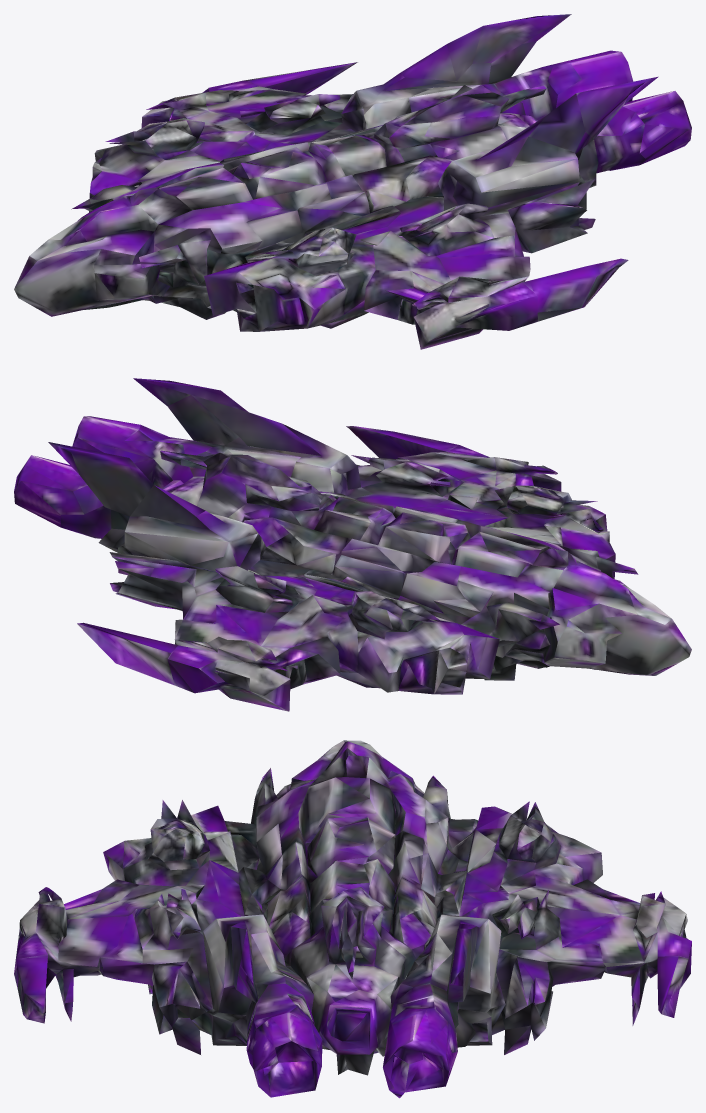
Rendered from paladin_lod.glb.
The picture shows the model from 3 angles, top to bottom: view 1: azimuth 30°, elevation 25°; view 2: azimuth 150°, elevation 25°; view 3: azimuth 270°, elevation 25°; orthographic projection. The views are drawn at different scales.
Size of the model in its own units: 1.9 by 0.4673 by 1.53.
Materials: 1 (1 with a texture image).
